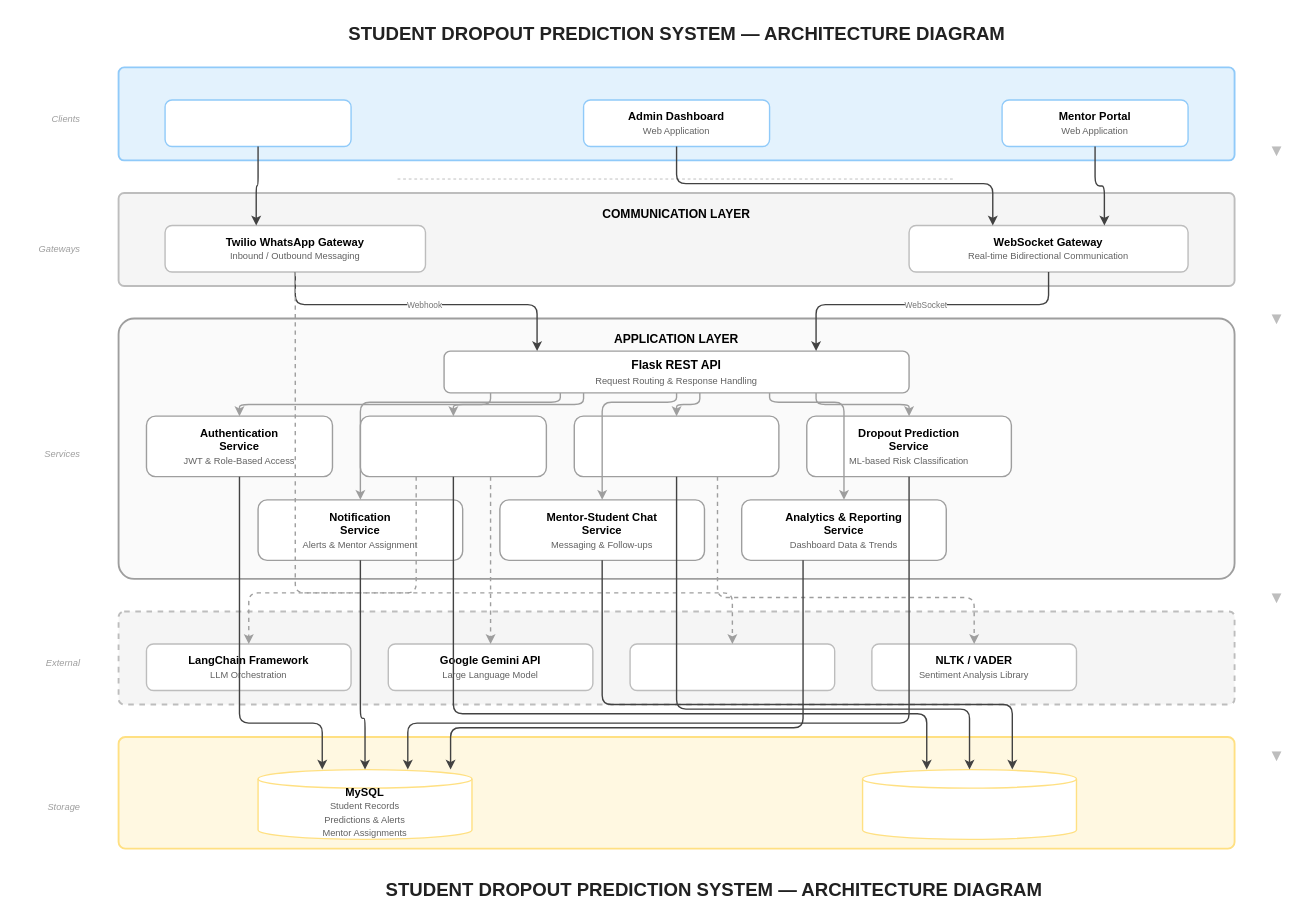
This 1306x920 diagram has some shape labels left out. The box of each missing label's shape, as (x1, y1, x2, y2) in pixels:
Behavioral Analysis Service Sentiment & Stress Detection: (573, 415, 779, 477)
Chatbot Service Conversational AI Agent: (359, 415, 547, 477)
CLIENT LAYER: (117, 66, 1235, 161)
DATA LAYER: (117, 736, 1235, 849)
EXTERNAL SERVICES: (117, 610, 1235, 705)
MongoDB Chat Logs Behavioral Data Conversation Memory: (861, 768, 1077, 840)
Student WhatsApp Interface: (164, 99, 351, 147)
Twilio Cloud WhatsApp Business API: (629, 643, 835, 691)
